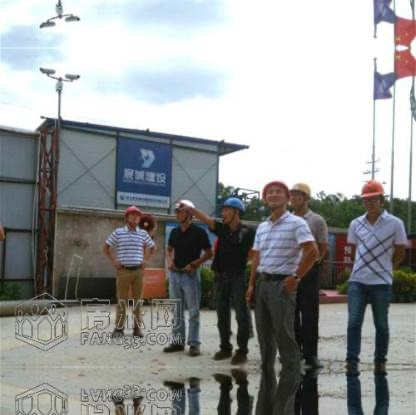Safety Helmet: (357, 177, 395, 222), (255, 178, 295, 220), (215, 193, 249, 228), (162, 194, 200, 225), (287, 179, 312, 215), (118, 201, 146, 233)
